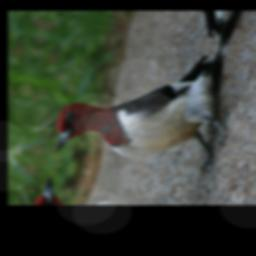Woodpecker: (47, 19, 250, 191)
